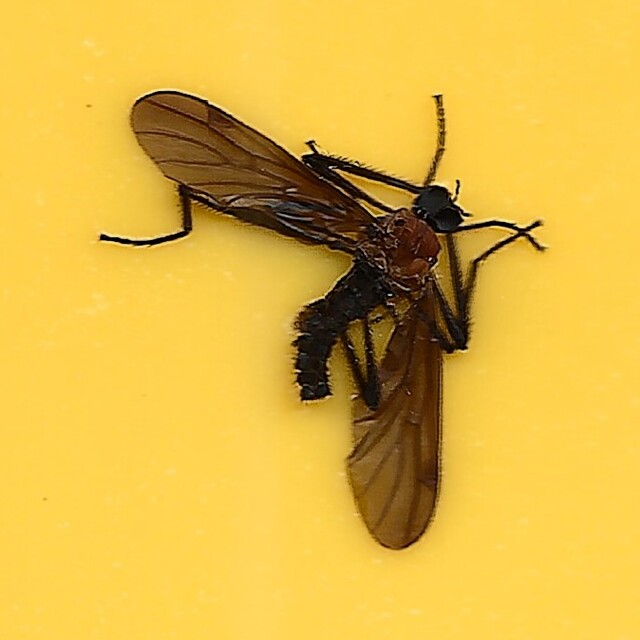Brachycera: (95, 90, 545, 550)
